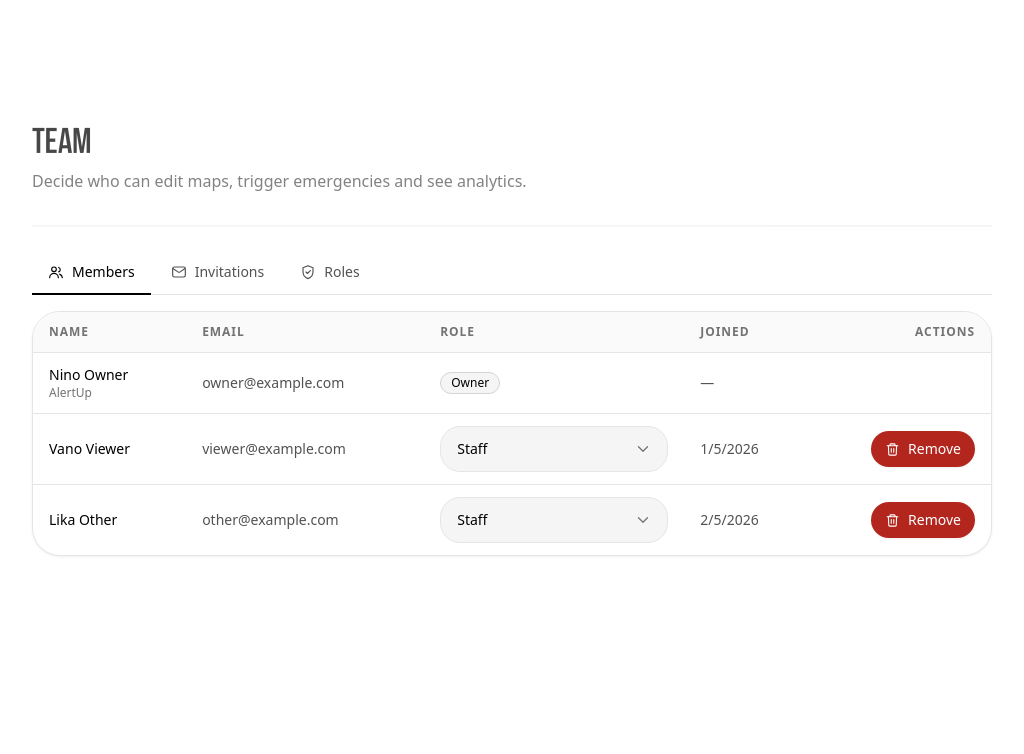
Test: Members page — custom roles › marks built-in roles read-only
Click the tab "Roles": click(330, 273) [284,251,376,295]
(page scrolled)
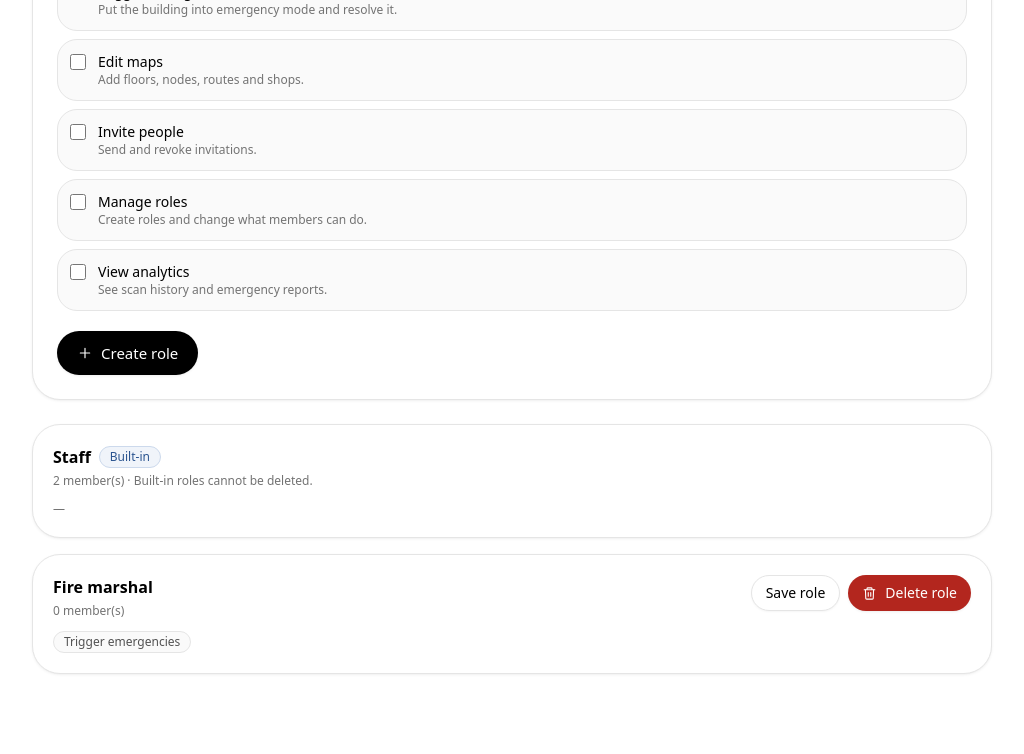
expect the text "Built-in" is shown: met, box [99,446,161,468]
